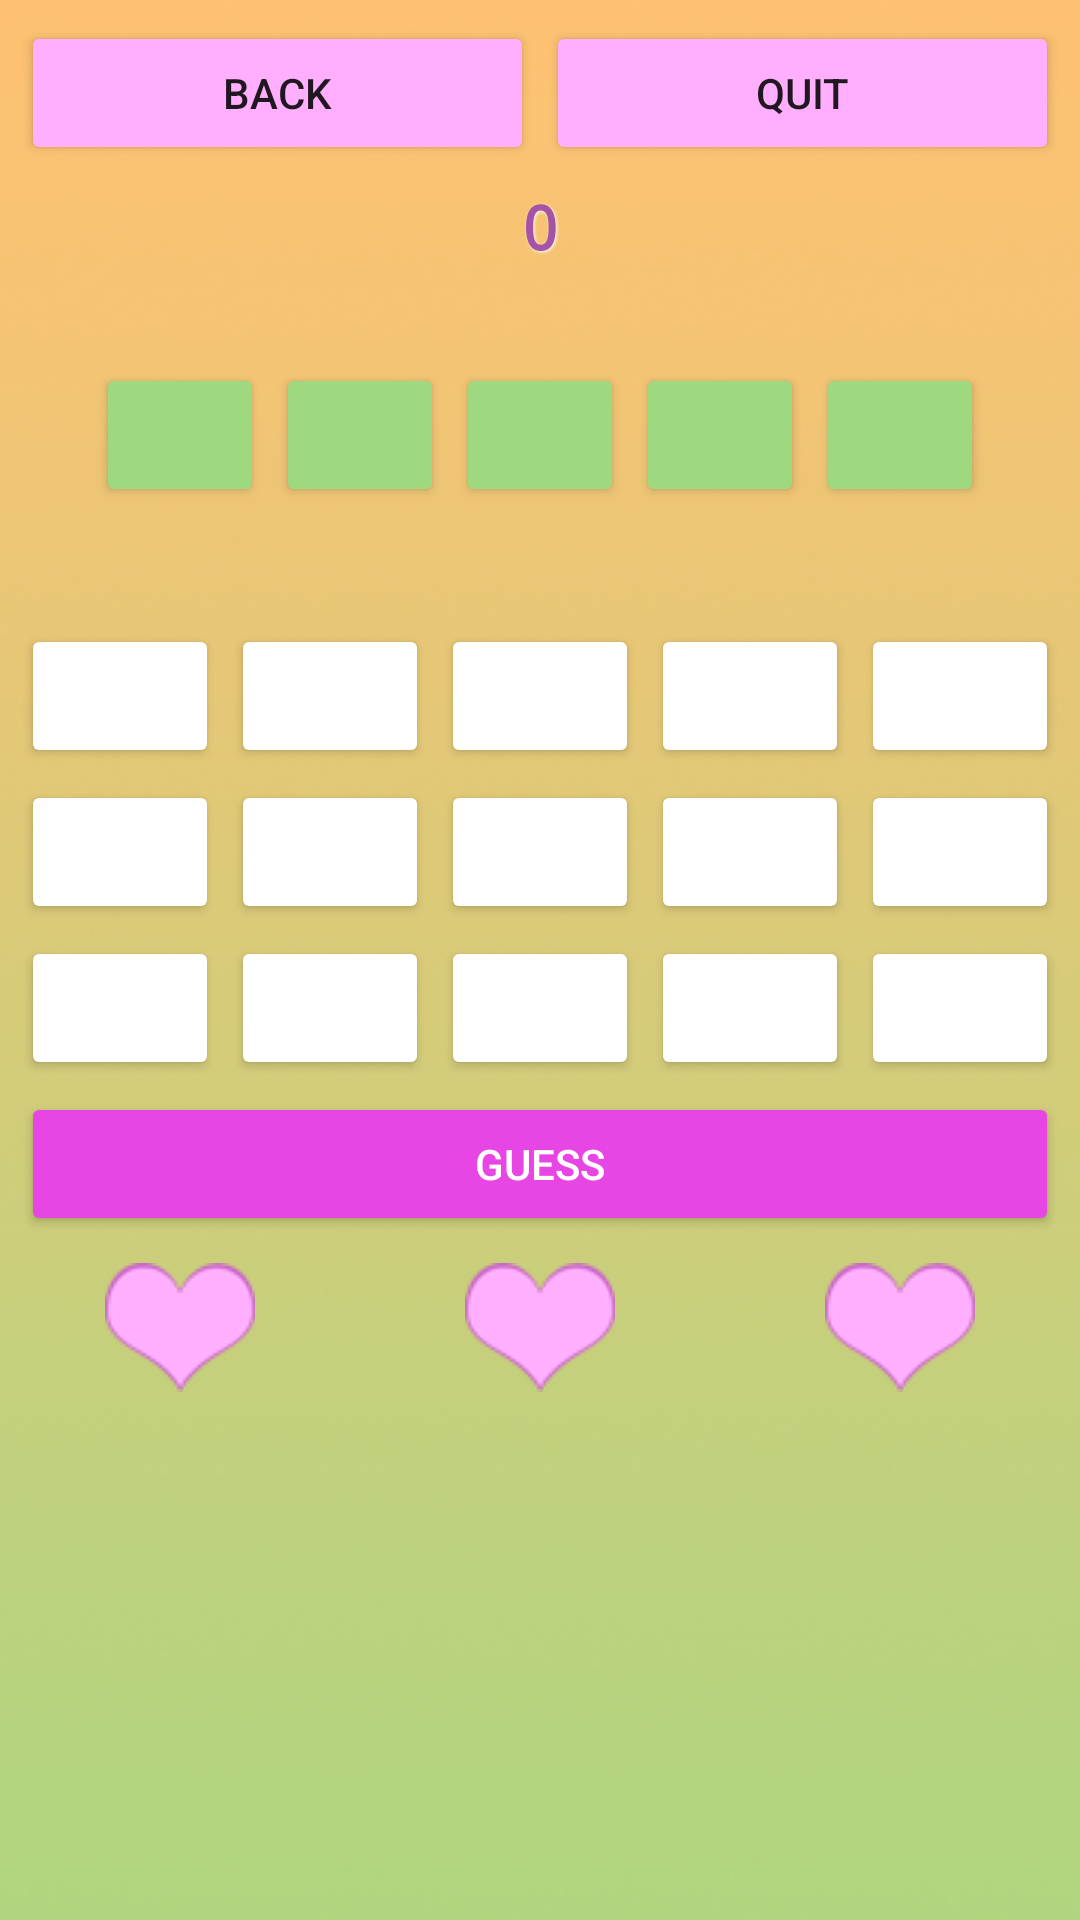

Icons on this 1080 x 1920 Android screen, each with its box as (x1, y1, x2, y2):
heartfull: (105, 1263, 255, 1392), (465, 1263, 615, 1392), (825, 1263, 975, 1392)
